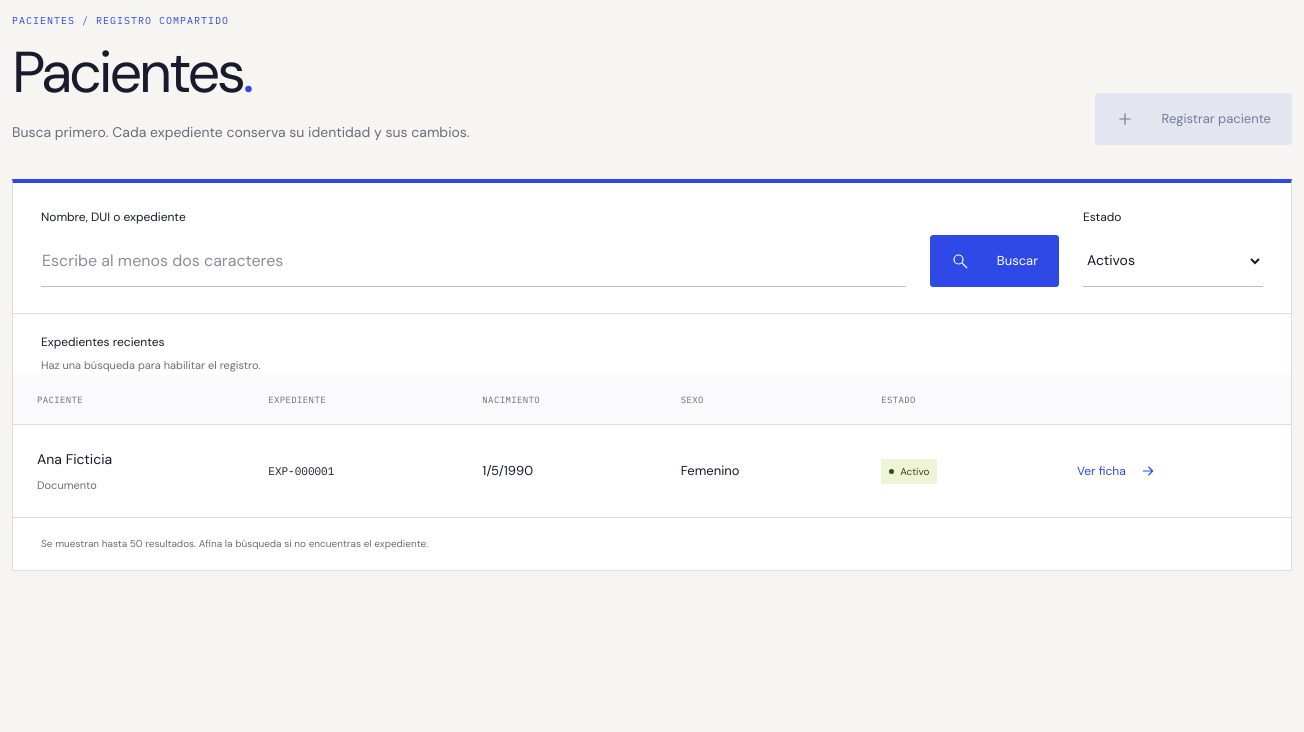
Test: búsqueda antes de registrar › muestra los candidatos con el motivo de coincidencia
The image size is (1304, 732).
Type "Ana" into the field labelled "Nombre, DUI o expediente" at [473, 261], box left=41, top=235, right=906, bottom=287
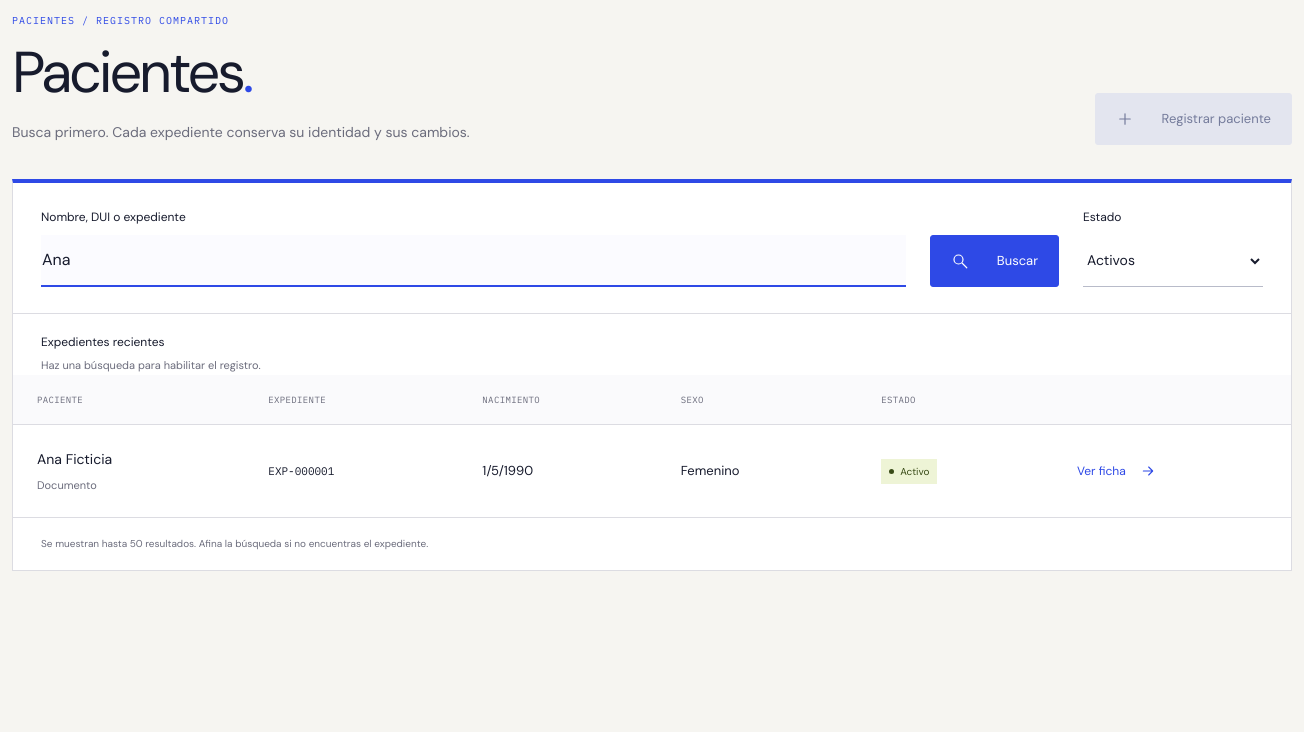
Click the button "Buscar" at [994, 261], box left=930, top=235, right=1059, bottom=287
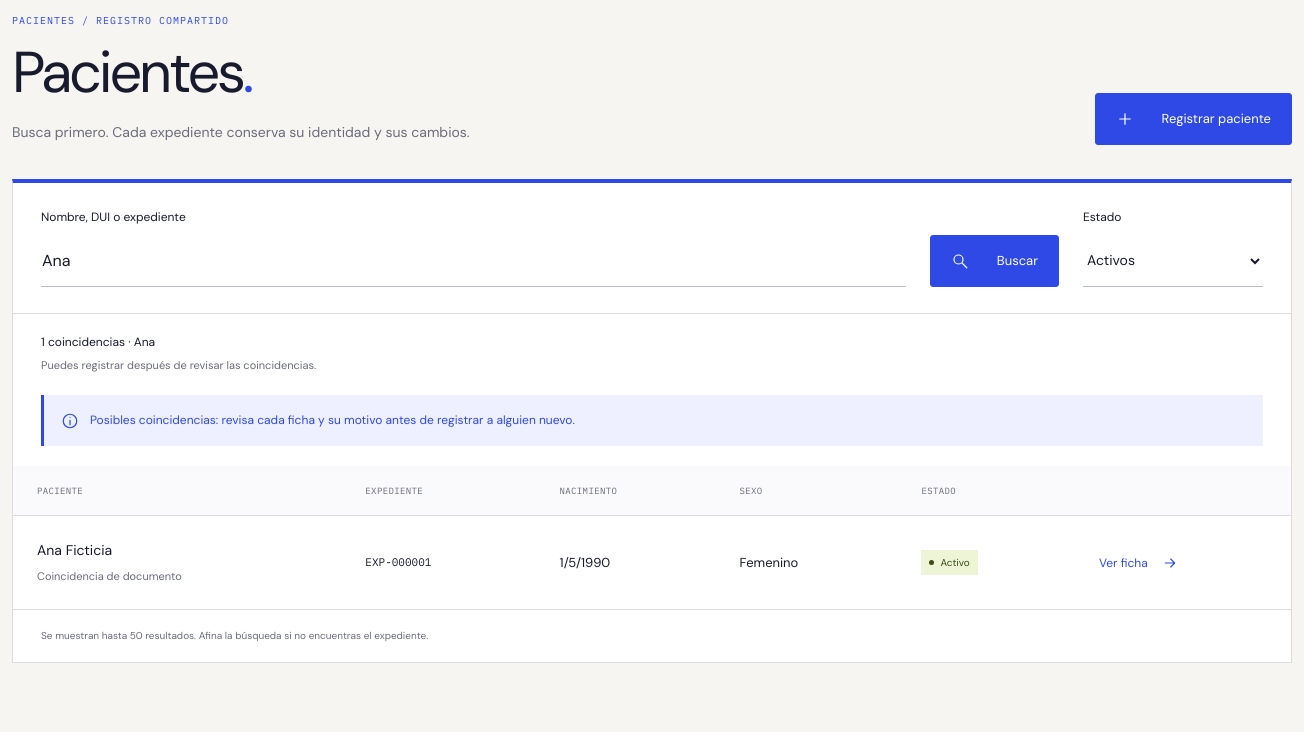
Expected: the text "Coincidencia de documento" is shown, left=37, top=569, right=182, bottom=583
Expected: the text "Posibles coincidencias" is shown, left=90, top=412, right=575, bottom=428
